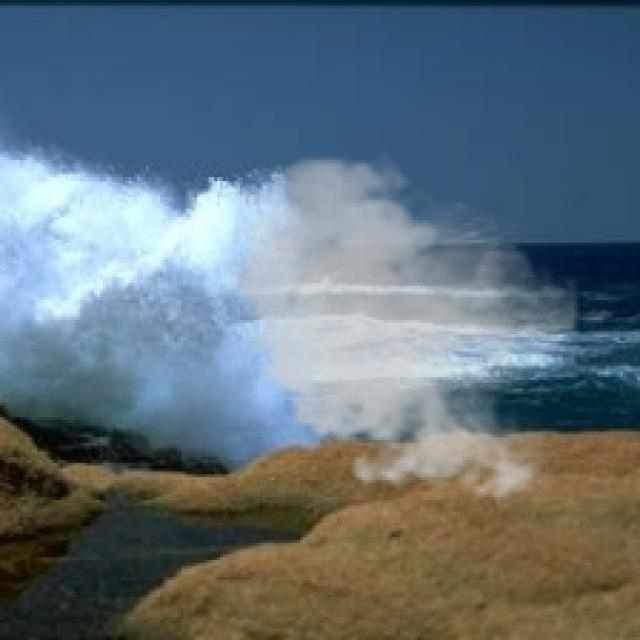Smoke: (211, 148, 580, 512)
